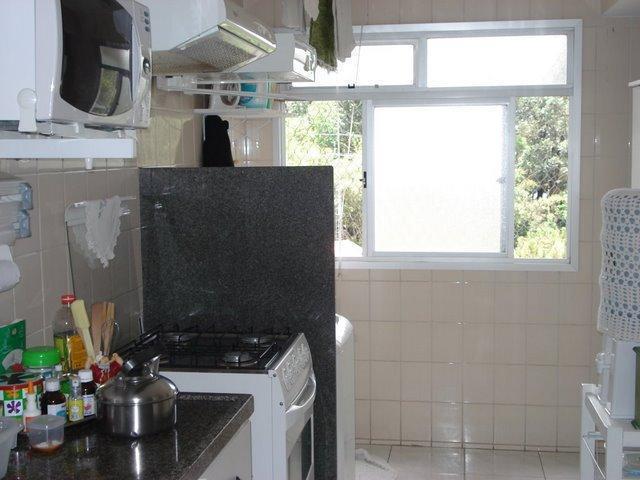Electrodomestico: (251, 331, 307, 479)
Ventana: (284, 36, 572, 264)
